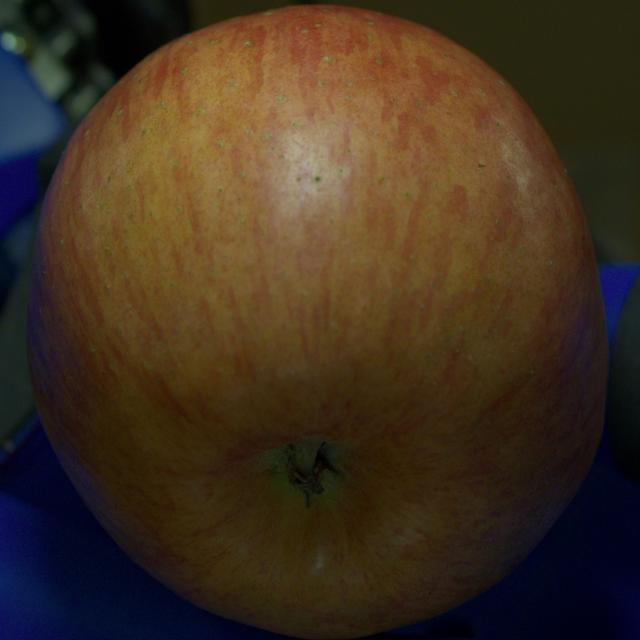apple: (28, 6, 608, 638)
